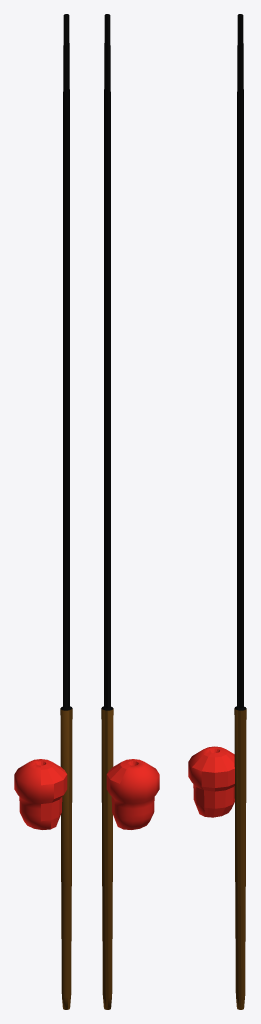
The model's file is rod_badVersion_two.fbx.
3 renders of one model, left to right at view 1: azimuth 30°, elevation 25°; view 2: azimuth 150°, elevation 25°; view 3: azimuth 330°, elevation 25°, orthographic.
Parts seen in each view (by area): view 1: Cylinder; view 2: Cylinder; view 3: Cylinder.
Boxes of the visible parts, <box> form: Cylinder: <box>14,14,72,1009</box>; Cylinder: <box>101,14,159,1009</box>; Cylinder: <box>188,14,246,1009</box>.
Size of the model in its own units: 7.03 by 124 by 5.97.
